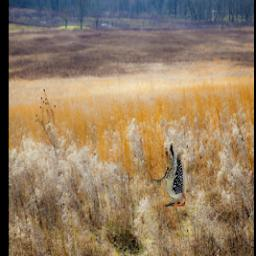Woodpecker: (151, 143, 185, 206)
